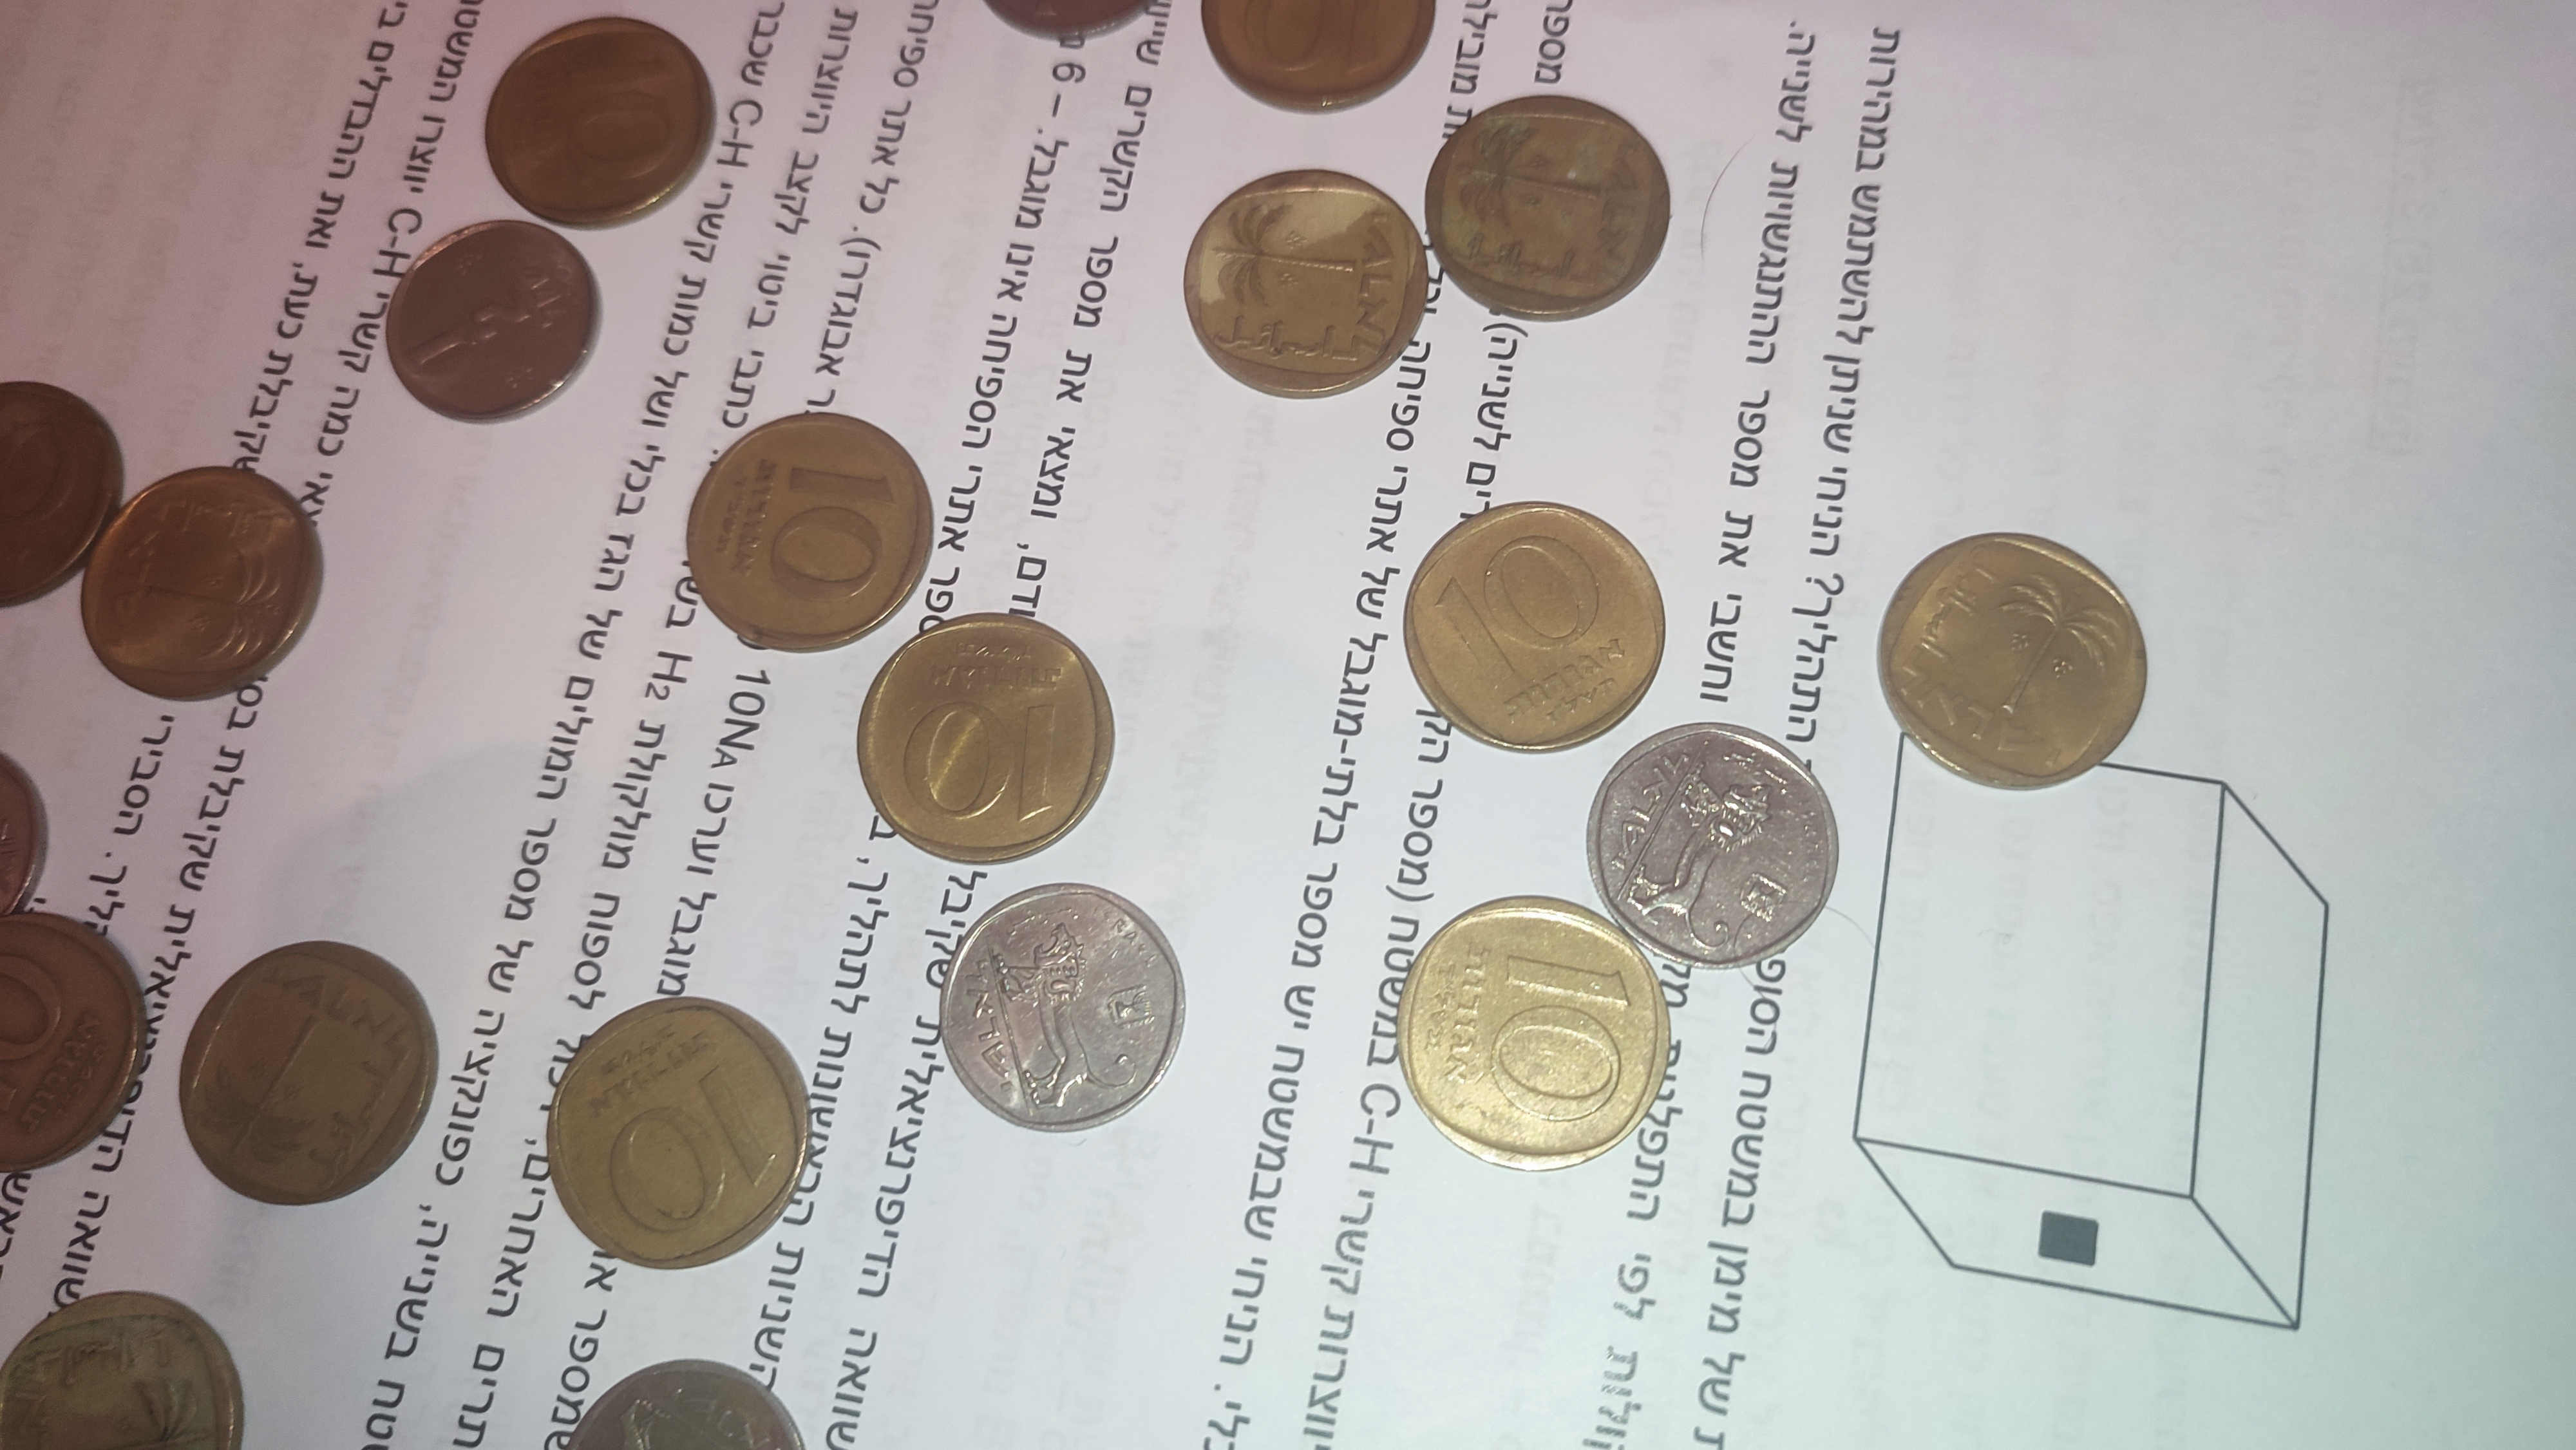1/2 old sheqel: (1582, 720, 1842, 971), (936, 879, 1189, 1135), (382, 217, 607, 424)
10 old agora brown: (1392, 891, 1674, 1176), (541, 992, 817, 1275), (173, 935, 442, 1211), (1874, 527, 2151, 794), (1398, 497, 1668, 757), (849, 610, 1122, 865), (685, 410, 938, 654), (1422, 92, 1677, 327), (1182, 166, 1433, 403), (81, 465, 327, 706), (481, 14, 718, 230), (0, 1289, 249, 1450), (0, 911, 150, 1172)
